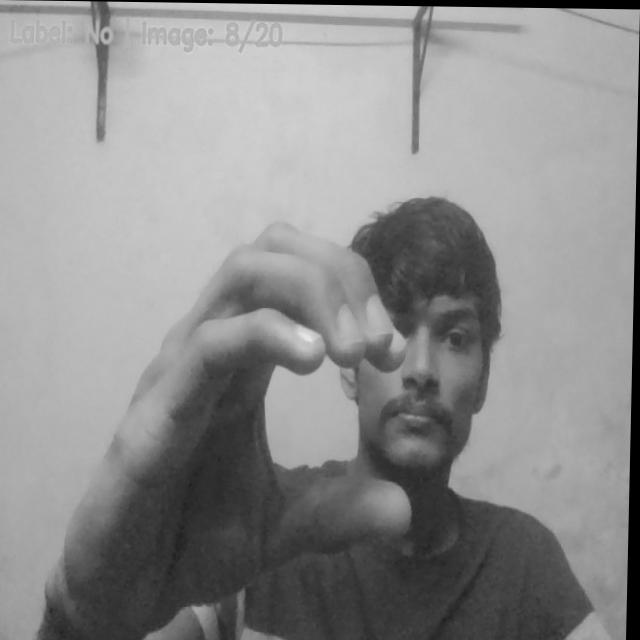No: (67, 214, 418, 613)
